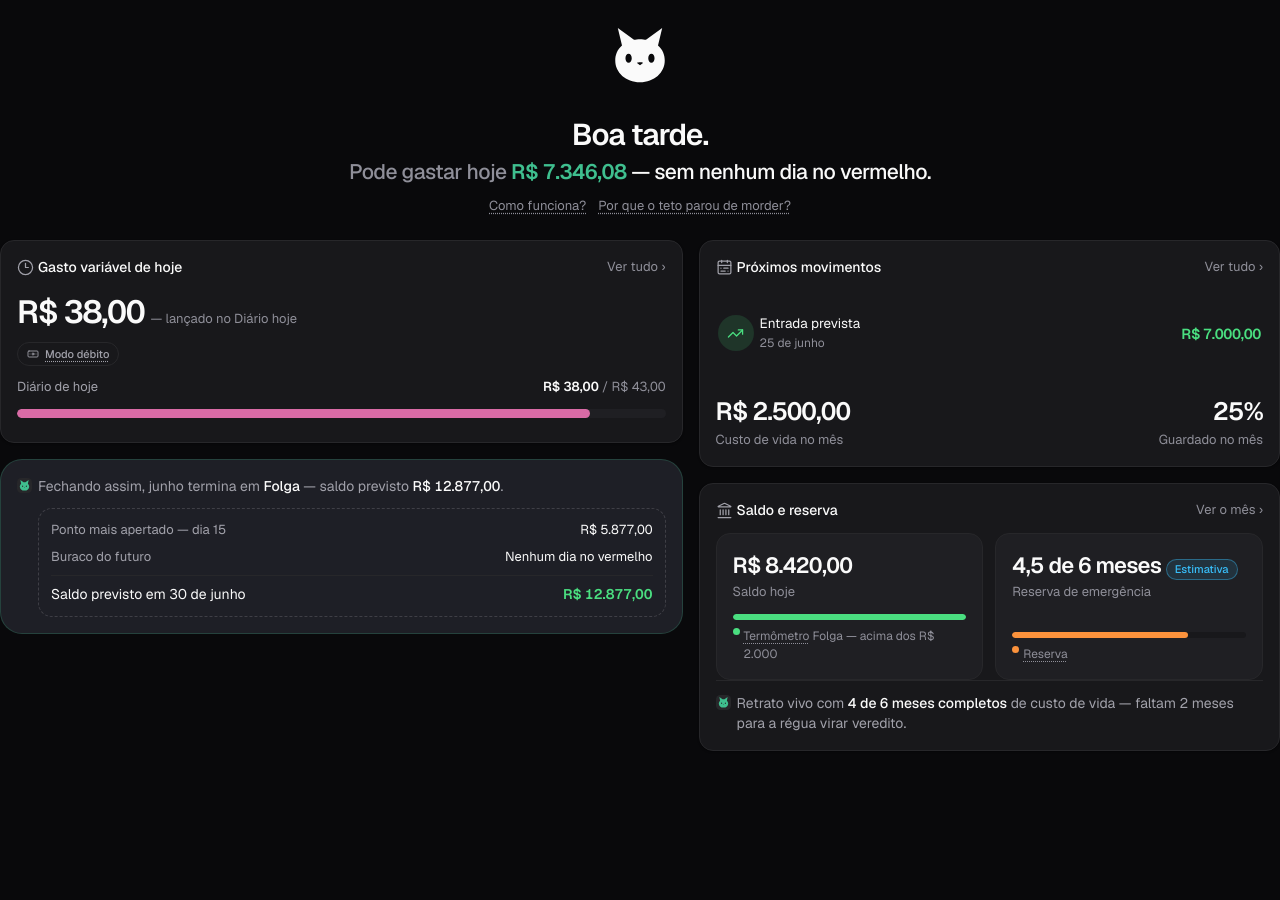
Test: DashboardScreen (Hoje) › zero por escolha: a resposta da pergunta diz 'a troca certa', nunca frase de falta
This screenshot has width=1280, height=900.
Step 1. Click the button "Por que o teto parou de morder?" → [695, 206], box [598,197,791,216]
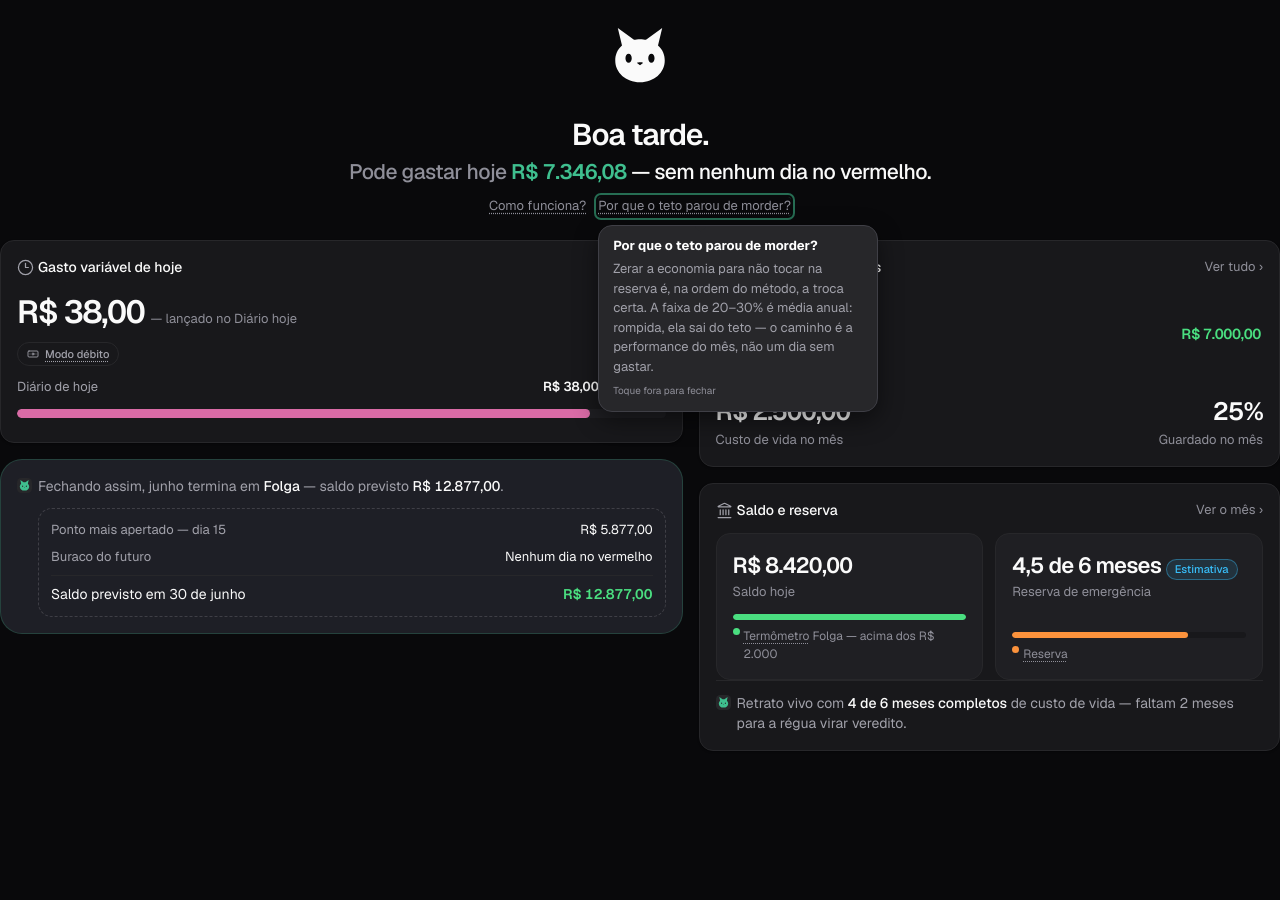
Expected: the tooltip shows "a troca certa", [613,260,853,375]
